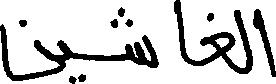X: (0, 15, 62, 83), (201, 8, 233, 74), (126, 14, 157, 72), (256, 4, 275, 81), (235, 5, 251, 78), (175, 0, 186, 66), (64, 38, 70, 83)
